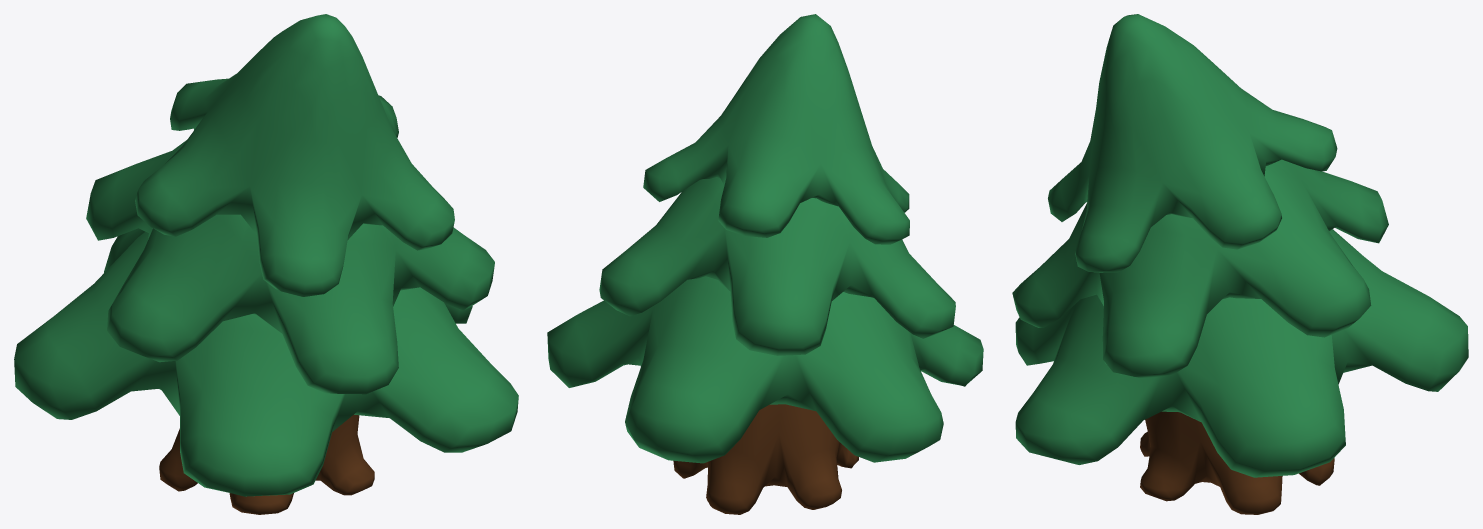
The model's file is Pine_Bend.fbx.
The picture shows the model from 3 angles, left to right: view 1: azimuth 30°, elevation 25°; view 2: azimuth 150°, elevation 25°; view 3: azimuth 270°, elevation 25°; orthographic projection. The views are drawn at different scales.
Visible parts, largest first — view 1: PineCime.001, Pine_trunk; view 2: PineCime.001, Pine_trunk; view 3: PineCime.001, Pine_trunk.
Part boxes in pixels (left/top/right/bottom): PineCime.001: left=14, top=14, right=518, bottom=496; Pine_trunk: left=159, top=414, right=374, bottom=514; PineCime.001: left=547, top=14, right=983, bottom=463; Pine_trunk: left=673, top=404, right=858, bottom=514; PineCime.001: left=1012, top=14, right=1468, bottom=477; Pine_trunk: left=1140, top=411, right=1334, bottom=514.
Bounding box in the file's own units: 2.16 × 2.36 × 2.1.
